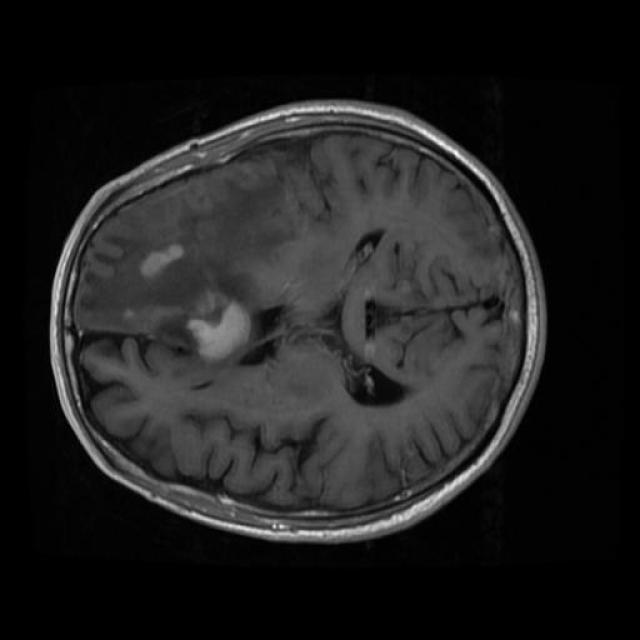Glioma: (107, 244, 257, 362)
